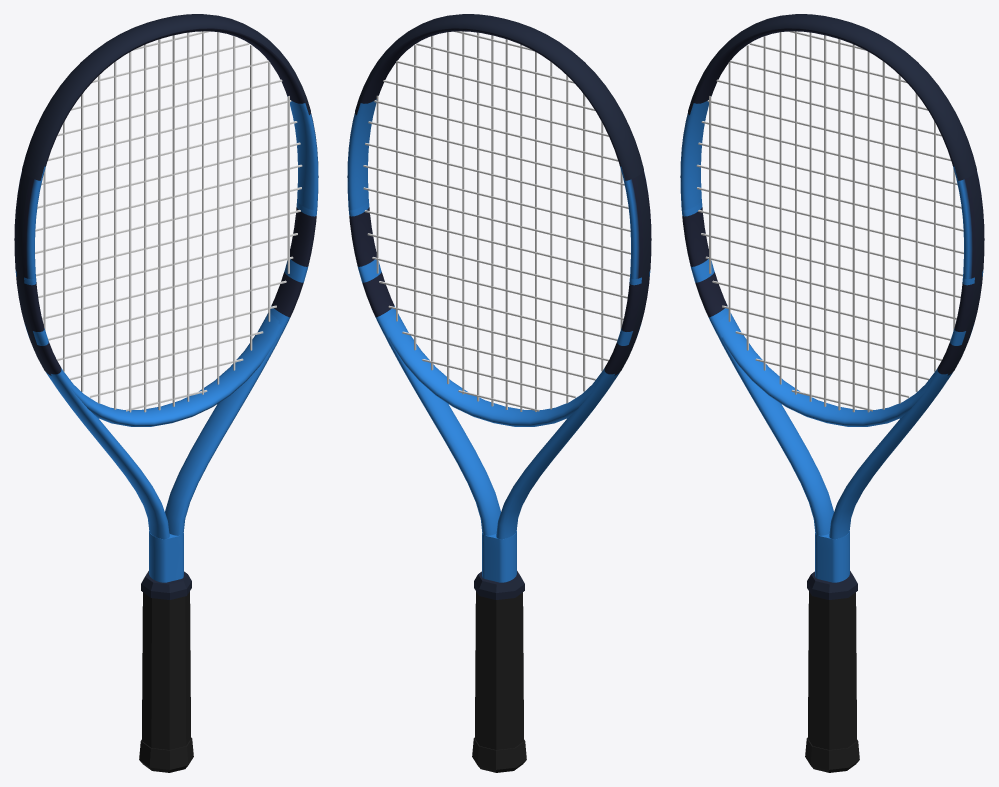
Rendered from babolat-pure-drive-junior-25-2020.glb.
The picture shows the model from 3 angles, left to right: view 1: azimuth 30°, elevation 25°; view 2: azimuth 150°, elevation 25°; view 3: azimuth 330°, elevation 25°; orthographic projection.
Visible parts, largest first — view 1: frame, strings_mains, strings_crosses, grip, bumper, grommets, butt_cap, collar; view 2: frame, strings_mains, strings_crosses, grip, bumper, grommets, butt_cap, collar; view 3: frame, strings_mains, strings_crosses, grip, bumper, grommets, butt_cap, collar.
Part boxes in pixels (<box>): frame: <box>14,28,318,582</box>; strings_mains: <box>43,31,289,412</box>; strings_crosses: <box>35,31,302,411</box>; grip: <box>142,591,190,749</box>; bumper: <box>22,14,310,180</box>; grommets: <box>15,172,51,375</box>; butt_cap: <box>139,737,193,772</box>; collar: <box>141,571,191,599</box>; frame: <box>347,28,651,582</box>; strings_mains: <box>376,31,622,411</box>; strings_crosses: <box>363,31,630,411</box>; grip: <box>475,591,523,749</box>; bumper: <box>355,14,643,180</box>; grommets: <box>614,172,650,375</box>; butt_cap: <box>472,737,526,772</box>; collar: <box>474,571,524,599</box>; frame: <box>680,28,984,582</box>; strings_mains: <box>709,31,955,412</box>; strings_crosses: <box>696,31,963,411</box>; grip: <box>808,591,856,749</box>; bumper: <box>688,14,976,180</box>; grommets: <box>947,172,983,375</box>; butt_cap: <box>805,737,859,772</box>; collar: <box>807,571,857,599</box>.
Bounding box in the file's own units: 0.2653 × 0.6353 × 0.0396.
